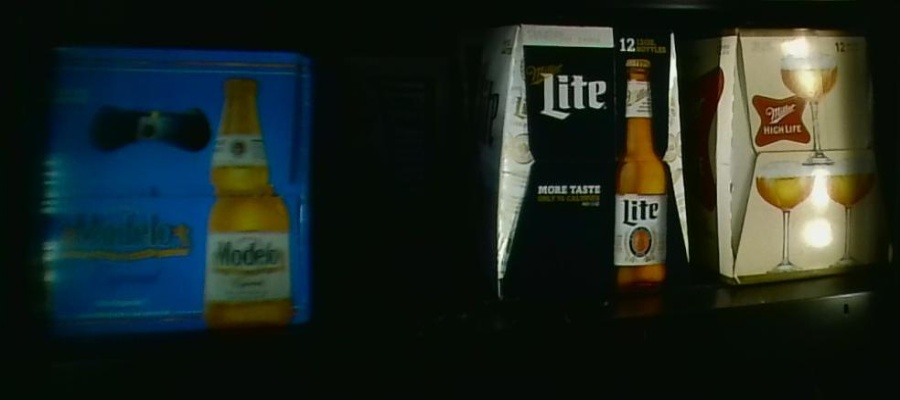bottle: (38, 43, 316, 330), (477, 26, 688, 290), (691, 29, 885, 284), (322, 51, 453, 239)
